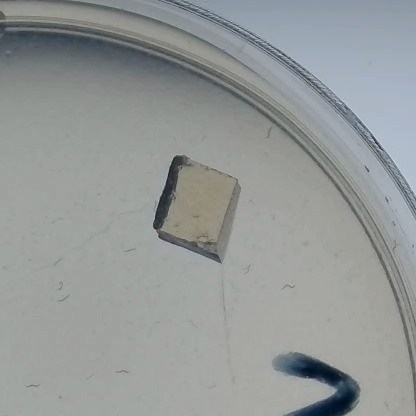worm: (23, 380, 43, 394), (278, 281, 298, 293), (263, 124, 275, 143), (241, 262, 256, 277), (379, 398, 395, 412), (184, 318, 200, 331), (118, 244, 138, 254), (55, 293, 73, 304), (50, 254, 63, 269), (48, 215, 65, 226), (53, 279, 67, 292), (114, 366, 129, 377), (201, 384, 220, 392), (84, 370, 95, 383)
